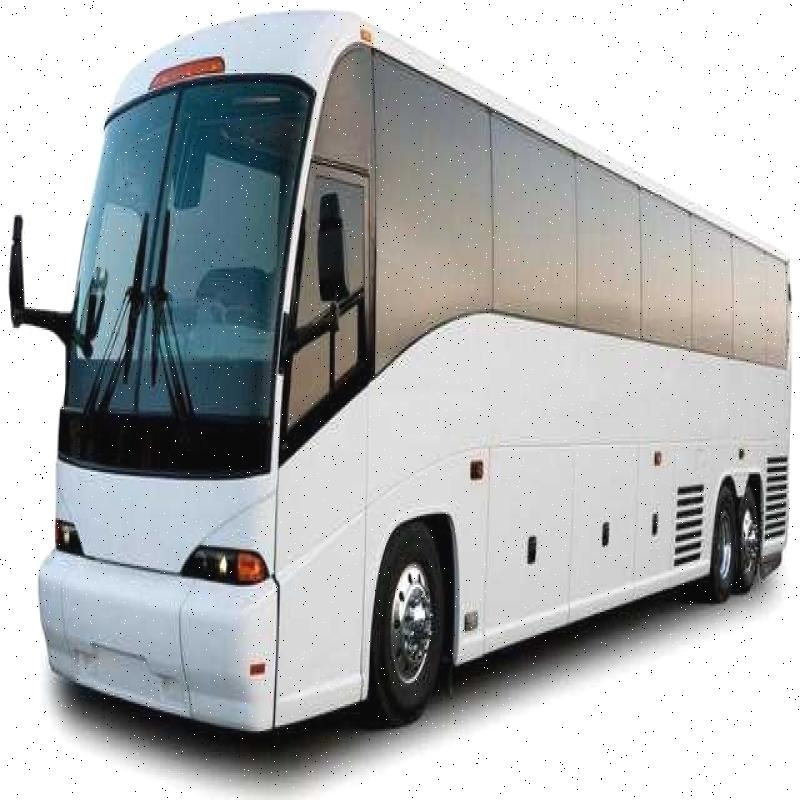bus: (42, 33, 800, 752)
